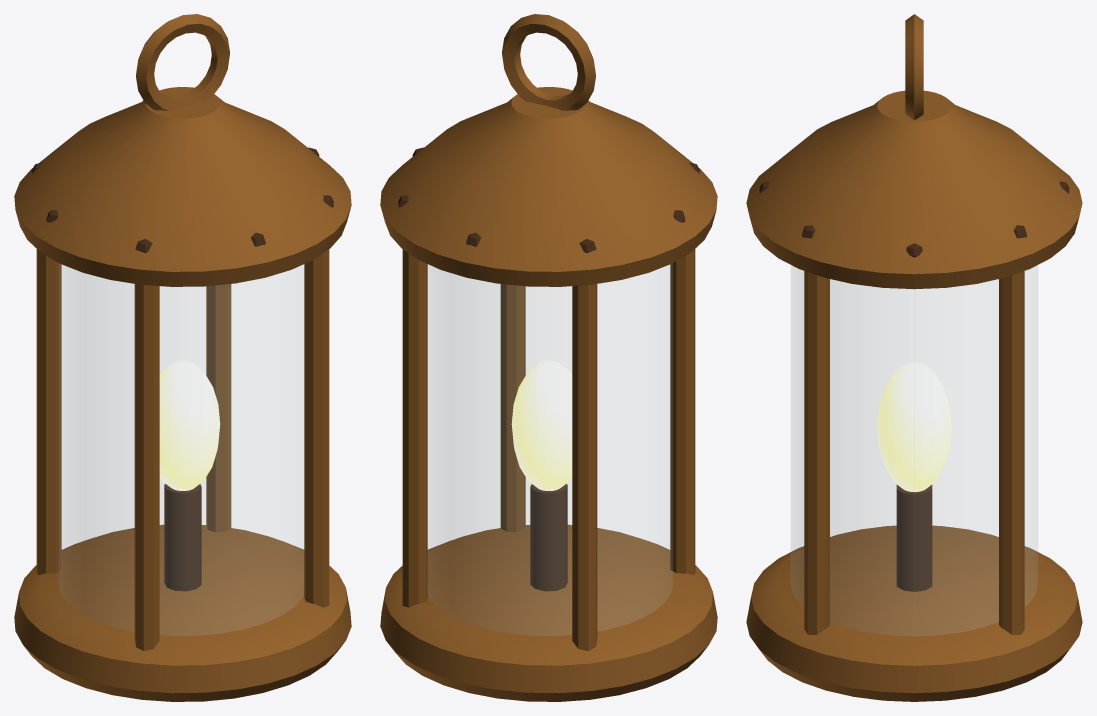
The model's file is arrival-lantern.lod0.glb.
3 renders of one model, left to right at view 1: azimuth 30°, elevation 25°; view 2: azimuth 150°, elevation 25°; view 3: azimuth 270°, elevation 25°, orthographic.
Visible parts, largest first — view 1: arrival_lantern_Trim • brass and bronze, arrival_lantern_Glass • lantern, arrival_lantern_Lantern • warm emission; view 2: arrival_lantern_Trim • brass and bronze, arrival_lantern_Glass • lantern, arrival_lantern_Lantern • warm emission; view 3: arrival_lantern_Trim • brass and bronze, arrival_lantern_Glass • lantern, arrival_lantern_Lantern • warm emission.
Boxes of the visible parts, x1=… form: arrival_lantern_Trim • brass and bronze: x1=14, y1=14, x2=351, y2=701; arrival_lantern_Glass • lantern: x1=59, y1=264, x2=303, y2=635; arrival_lantern_Lantern • warm emission: x1=159, y1=360, x2=220, y2=490; arrival_lantern_Trim • brass and bronze: x1=380, y1=14, x2=717, y2=701; arrival_lantern_Glass • lantern: x1=428, y1=264, x2=672, y2=635; arrival_lantern_Lantern • warm emission: x1=511, y1=360, x2=572, y2=490; arrival_lantern_Trim • brass and bronze: x1=746, y1=14, x2=1082, y2=701; arrival_lantern_Glass • lantern: x1=791, y1=265, x2=1037, y2=635; arrival_lantern_Lantern • warm emission: x1=877, y1=362, x2=951, y2=492.
Bounding box in the file's own units: 0.144 × 0.2912 × 0.144.
3 materials, 1 textured.
